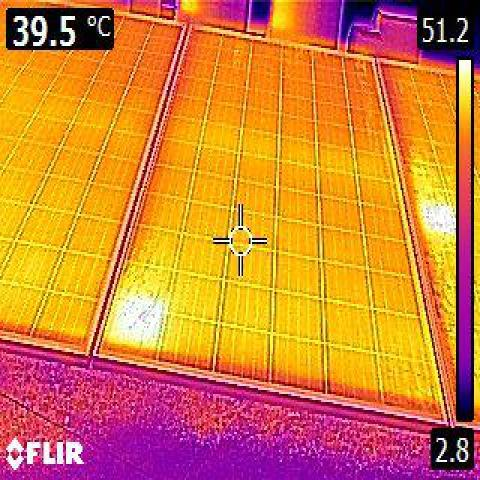fault: (112, 309, 157, 350), (424, 198, 456, 233)
